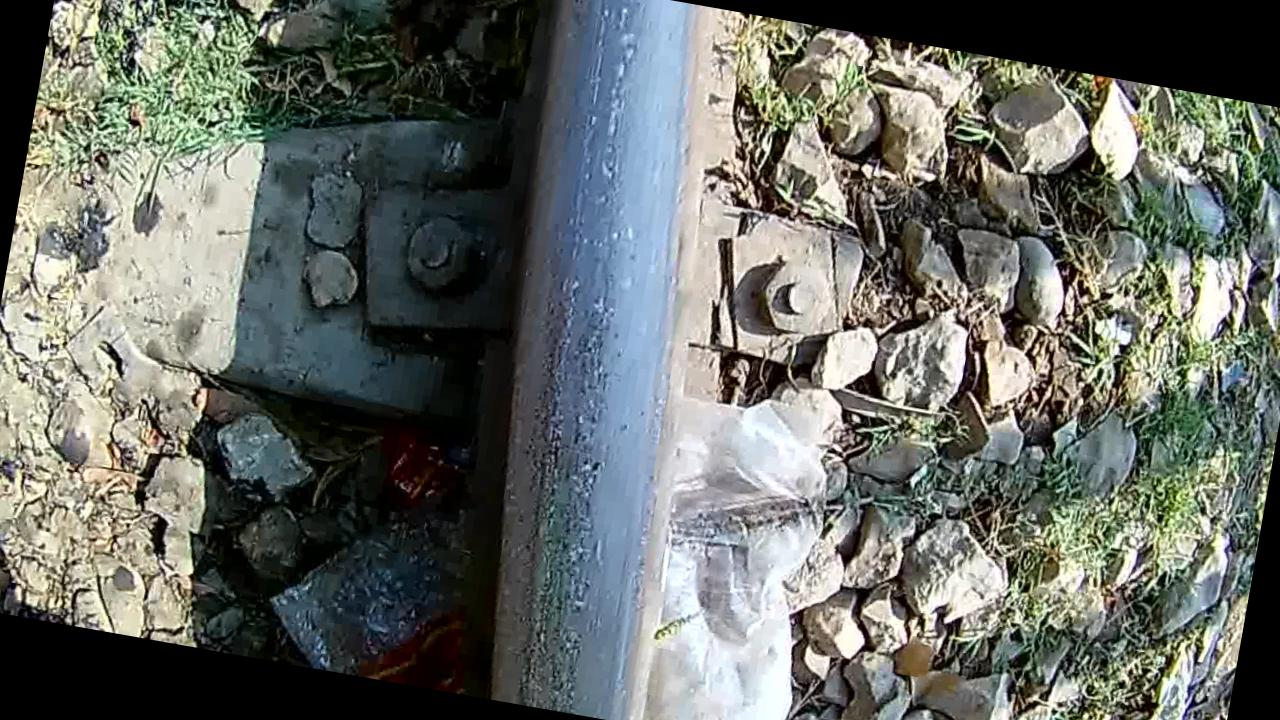clip_missing: (466, 0, 731, 720)
